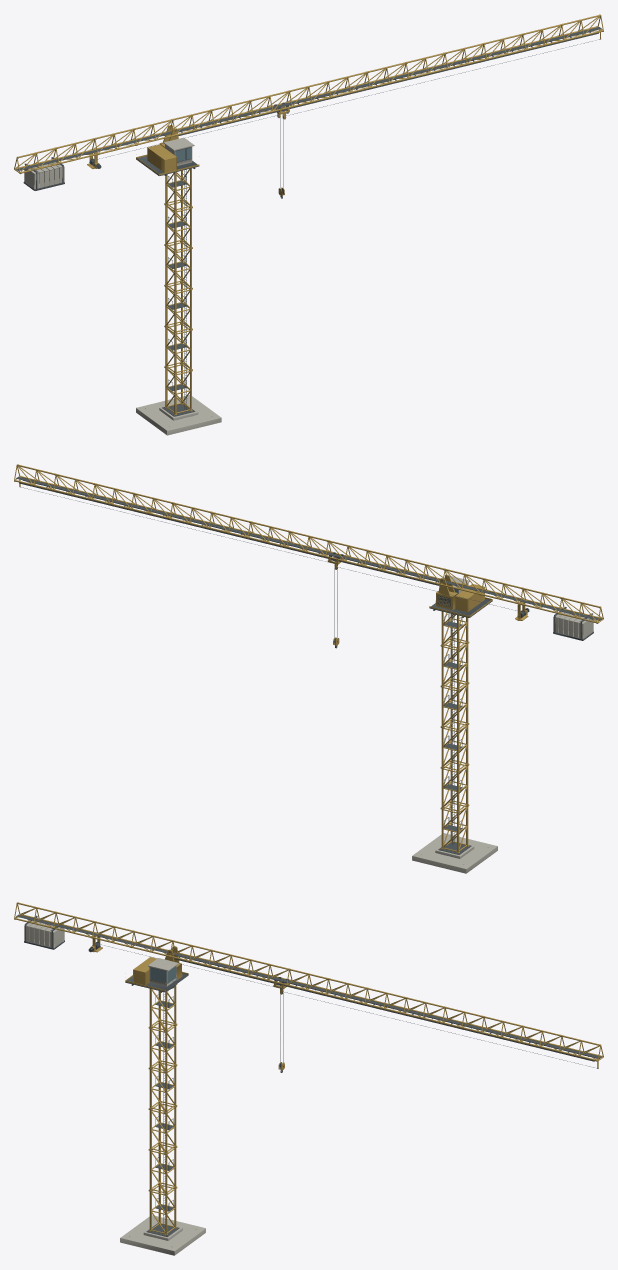
The model's file is provision_distance.glb.
3 views of the same model, one above another, from view 1: azimuth 30°, elevation 25°; view 2: azimuth 150°, elevation 25°; view 3: azimuth 330°, elevation 25° (orthographic).
Visible parts, largest first — view 1: provision_distance; view 2: provision_distance; view 3: provision_distance.
Boxes of the visible parts, x1=… form: provision_distance: x1=14, y1=14, x2=603, y2=435; provision_distance: x1=14, y1=464, x2=603, y2=873; provision_distance: x1=14, y1=902, x2=603, y2=1255.
Size of the model in its own units: 75.1 by 35.92 by 7.01.
